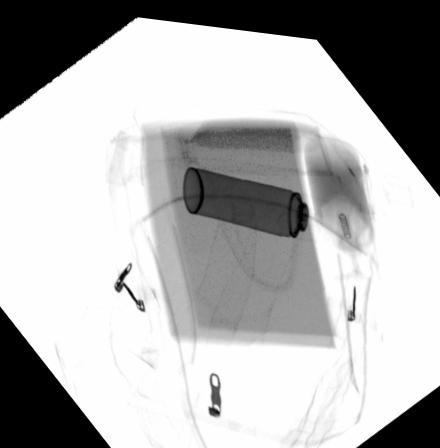Sprayer: (181, 160, 338, 241)
